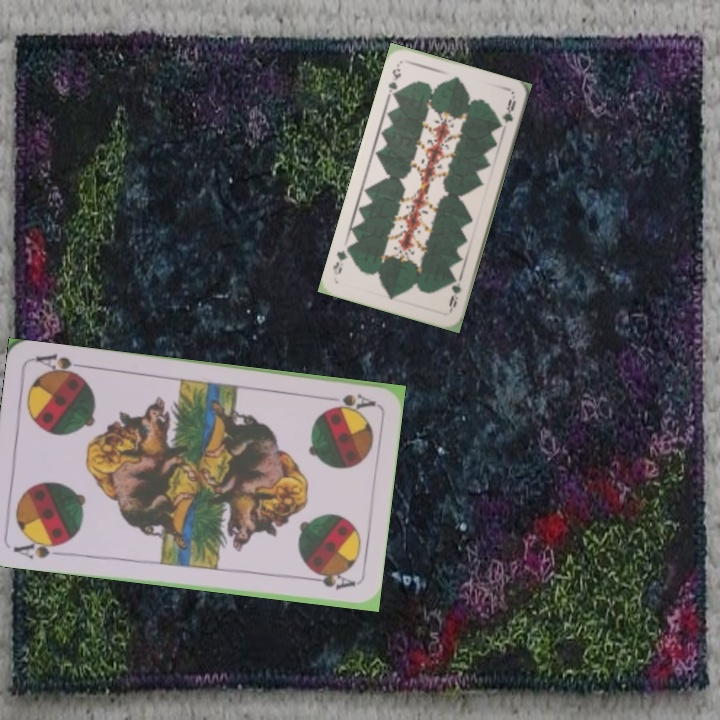G9: (383, 60, 404, 101), (445, 273, 464, 314)
SA: (9, 534, 68, 562), (318, 390, 378, 414)
